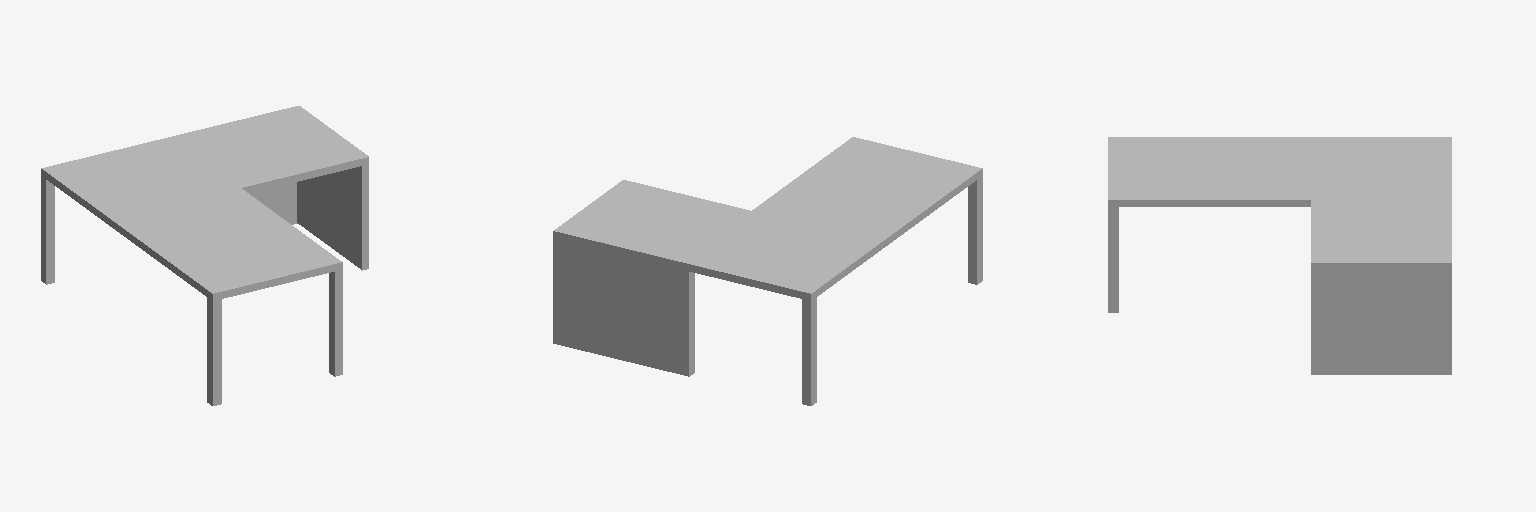
Rendered from desk03.obj.
3 renders of one model, left to right at view 1: azimuth 30°, elevation 25°; view 2: azimuth 150°, elevation 25°; view 3: azimuth 270°, elevation 25°, orthographic.
Visible parts, largest first — view 1: Desk.001_Cube.008; view 2: Desk.001_Cube.008; view 3: Desk.001_Cube.008.
Boxes of the visible parts, <box> form: Desk.001_Cube.008: <box>41,106,368,405</box>; Desk.001_Cube.008: <box>553,137,982,405</box>; Desk.001_Cube.008: <box>1108,137,1451,374</box>.
Size of the model in its own units: 1.43 by 0.5976 by 1.65.